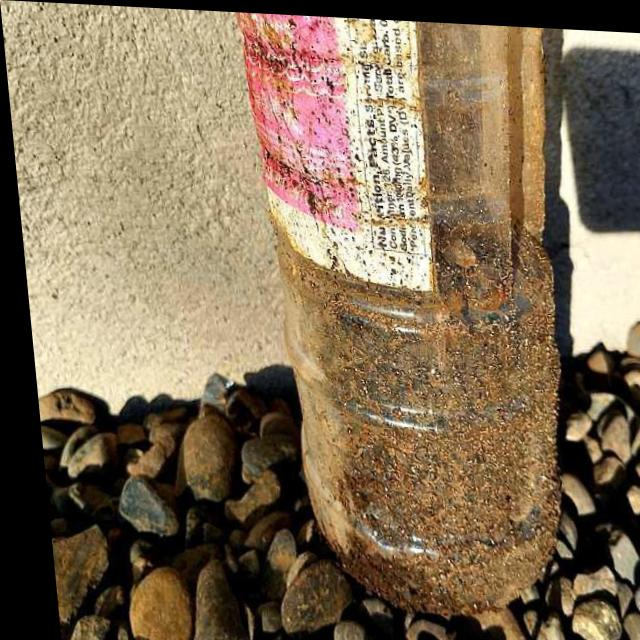Non-biodegradable: (233, 10, 587, 609)
